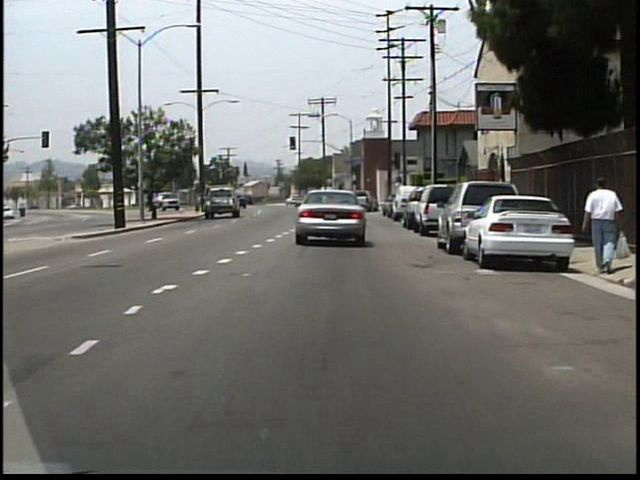person: (579, 173, 620, 276)
